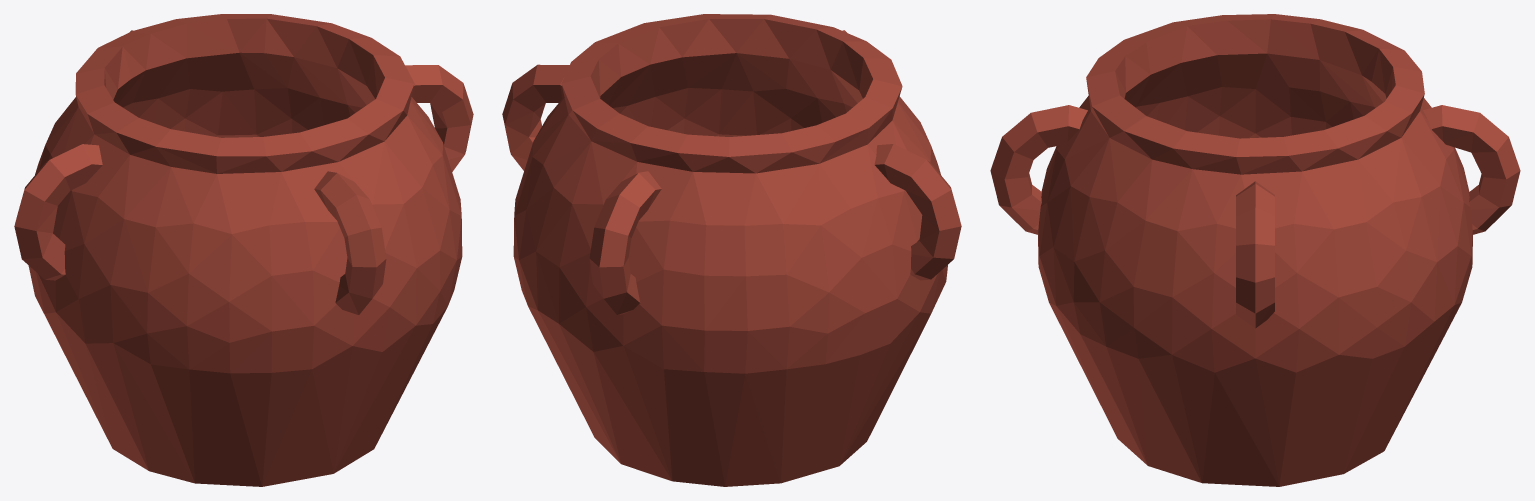
File: Pottery 2_2b.fbx
3 renders of one model, left to right at view 1: azimuth 30°, elevation 25°; view 2: azimuth 150°, elevation 25°; view 3: azimuth 270°, elevation 25°, orthographic.
Visible parts, largest first — view 1: Pottery 2_2b.001, Pottery 2_2b.006, Pottery 2_2b.005, Pottery 2_2b.004, Pottery 2_2b.007, Pottery 2_2b, Pottery 2_2b.003, Pottery 2_2b.002; view 2: Pottery 2_2b.005, Pottery 2_2b.004, Pottery 2_2b, Pottery 2_2b.002, Pottery 2_2b.001, Pottery 2_2b.003, Pottery 2_2b.006; view 3: Pottery 2_2b.003, Pottery 2_2b.002, Pottery 2_2b.004, Pottery 2_2b.005, Pottery 2_2b, Pottery 2_2b.001, Pottery 2_2b.007, Pottery 2_2b.006.
Part boxes in pixels (x1,y1,x2,y2): Pottery 2_2b.001: (156,99,416,345); Pottery 2_2b.006: (85,167,271,445); Pottery 2_2b.005: (14,46,170,359); Pottery 2_2b.004: (98,14,292,137); Pottery 2_2b.007: (265,268,447,445); Pottery 2_2b: (64,344,404,486); Pottery 2_2b.003: (264,14,473,171); Pottery 2_2b.002: (367,55,462,305); Pottery 2_2b.005: (704,79,961,415); Pottery 2_2b.004: (519,98,729,411); Pottery 2_2b: (528,307,930,486); Pottery 2_2b.002: (595,14,756,136); Pottery 2_2b.001: (704,14,919,134); Pottery 2_2b.003: (502,42,620,304); Pottery 2_2b.006: (898,102,947,312); Pottery 2_2b.003: (1208,115,1411,425); Pottery 2_2b.002: (1053,116,1240,358); Pottery 2_2b.004: (1365,49,1520,381); Pottery 2_2b.005: (1174,14,1403,138); Pottery 2_2b: (1093,347,1420,486); Pottery 2_2b.001: (990,22,1187,264); Pottery 2_2b.007: (1038,247,1214,425); Pottery 2_2b.006: (1136,63,1187,130).
Size of the model in its own units: 87.53 by 63.93 by 87.53.
